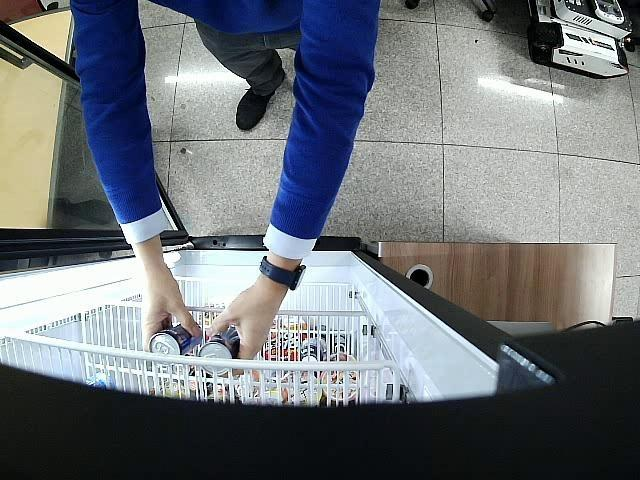16_hot6: (199, 328, 241, 376), (149, 322, 203, 356)
